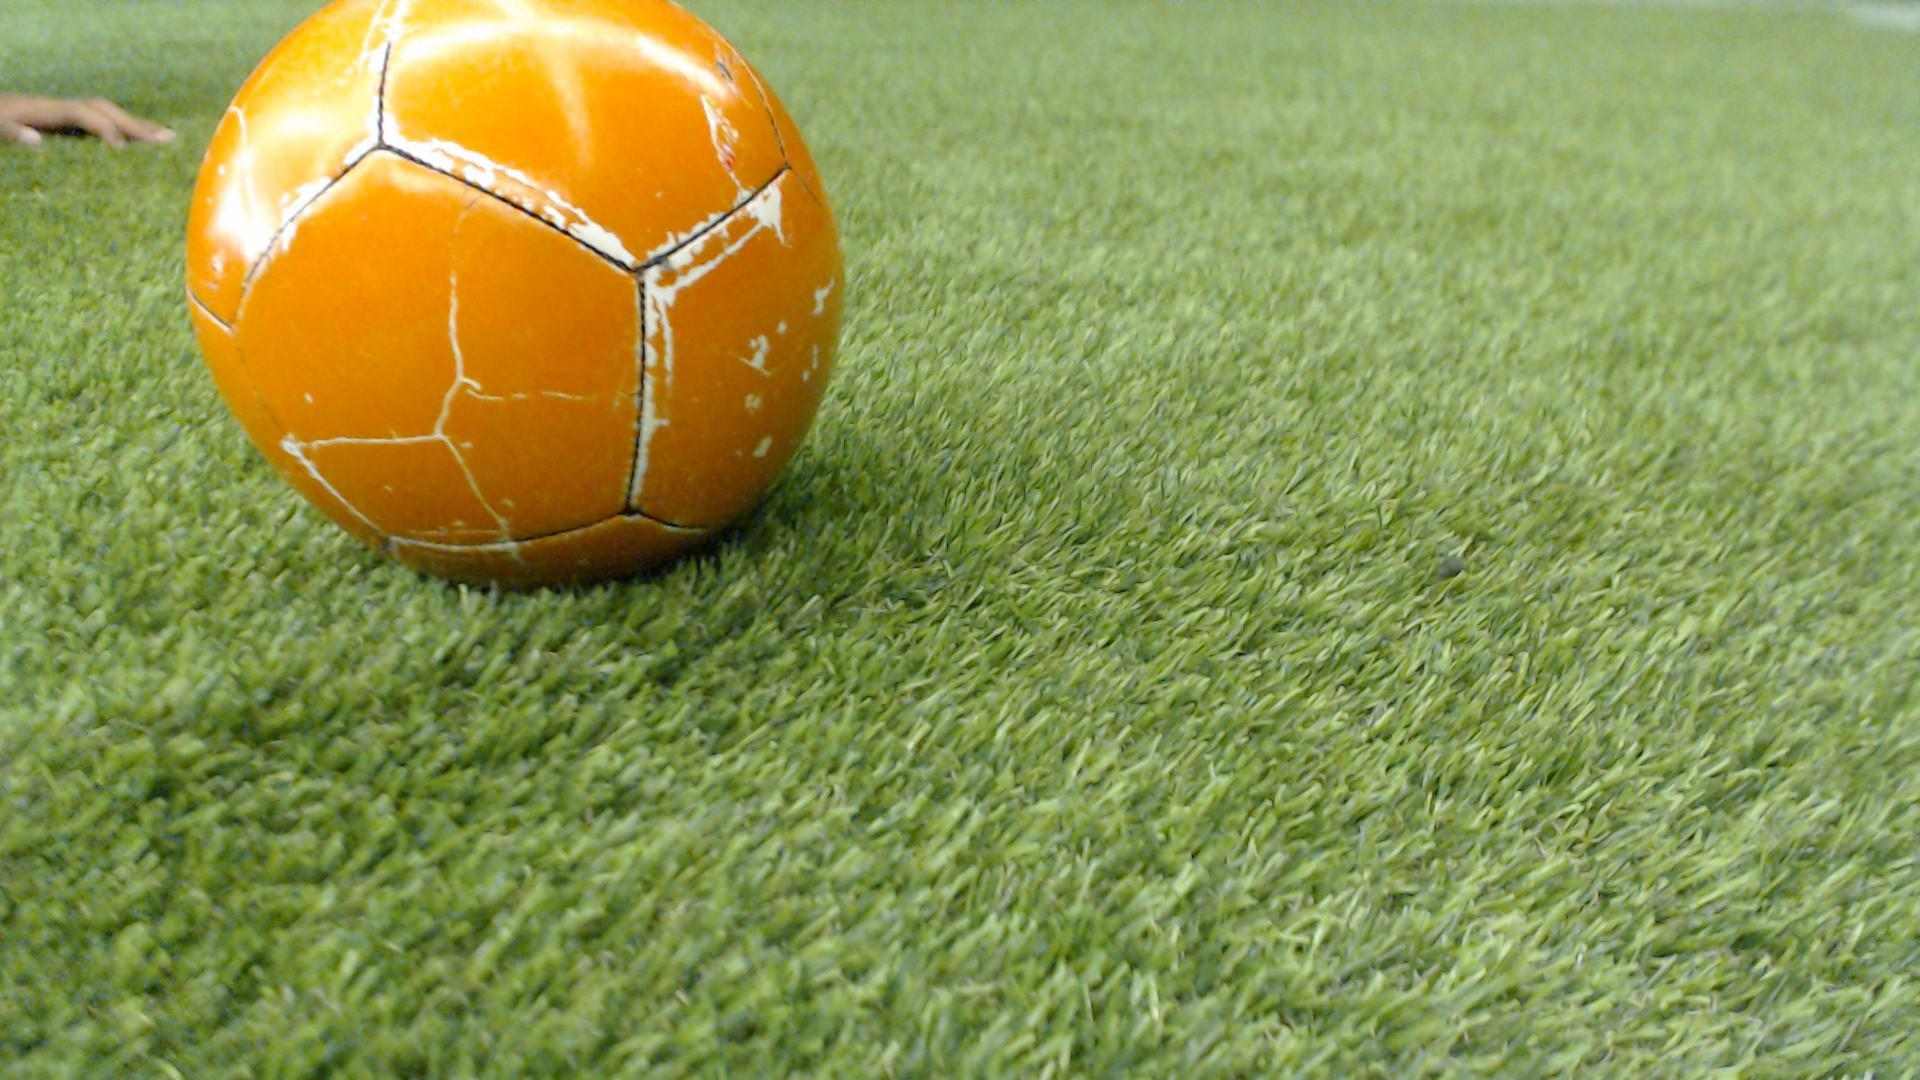bola: (161, 0, 945, 631)
